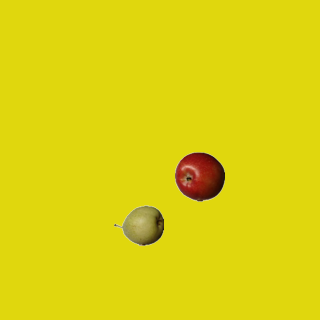Apple Braeburn: (174, 151, 224, 201)
Pear: (113, 200, 163, 250)
